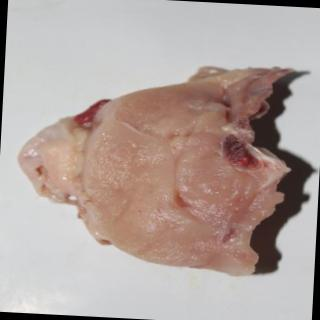Ayam: (18, 57, 290, 277)
